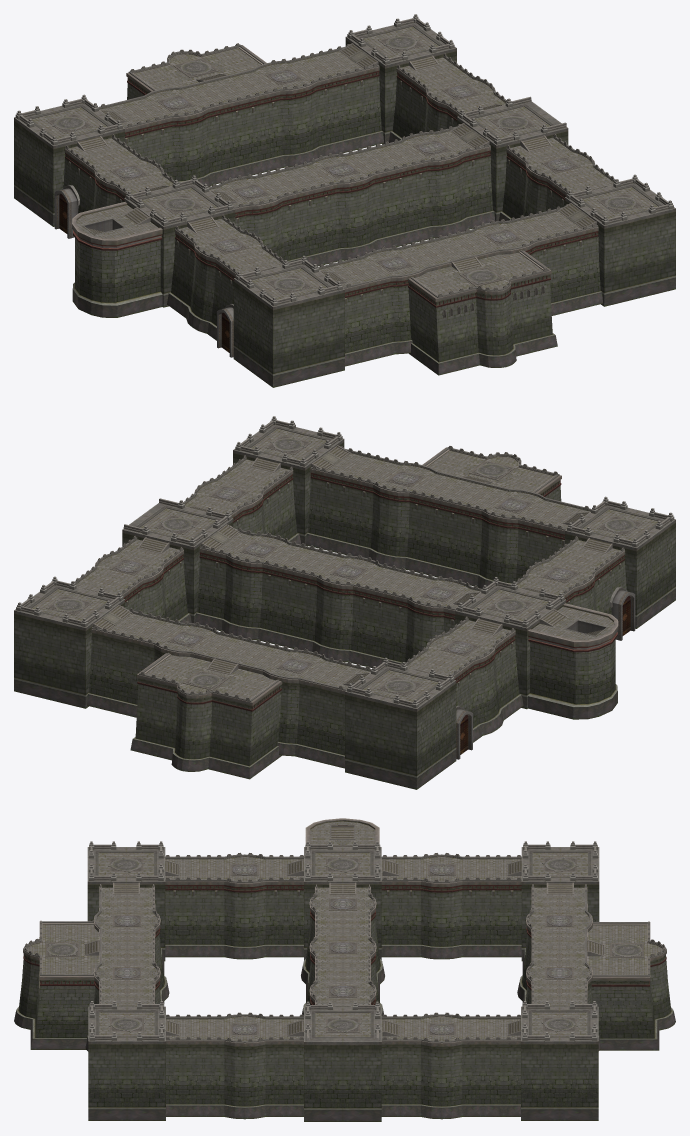
File: cz_chengqiang01.FBX
3 views of the same model, one above another, from view 1: azimuth 30°, elevation 25°; view 2: azimuth 150°, elevation 25°; view 3: azimuth 270°, elevation 25° (orthographic).
Parts seen in each view (by area): view 1: cz_chengqiang01; view 2: cz_chengqiang01; view 3: cz_chengqiang01.
Part boxes in pixels (left/top/right/bottom): cz_chengqiang01: left=14, top=14, right=675, bottom=387; cz_chengqiang01: left=14, top=416, right=675, bottom=789; cz_chengqiang01: left=14, top=818, right=675, bottom=1121.
Size of the model in its own units: 9147 by 1639 by 11282.
